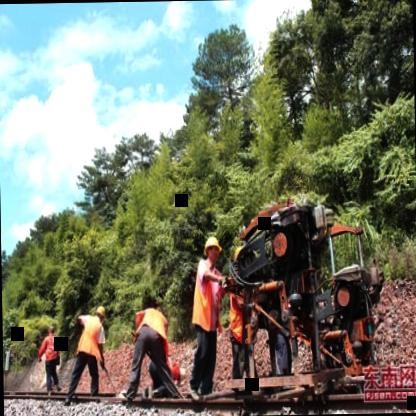helmet: (200, 232, 224, 266), (92, 298, 108, 325)
